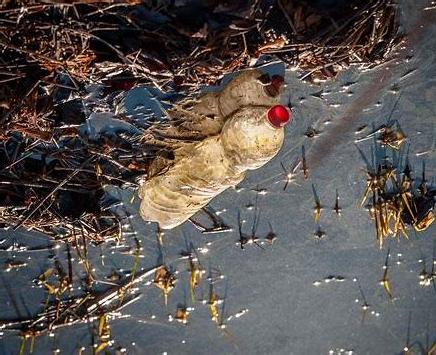Plastic: (135, 106, 290, 228)
